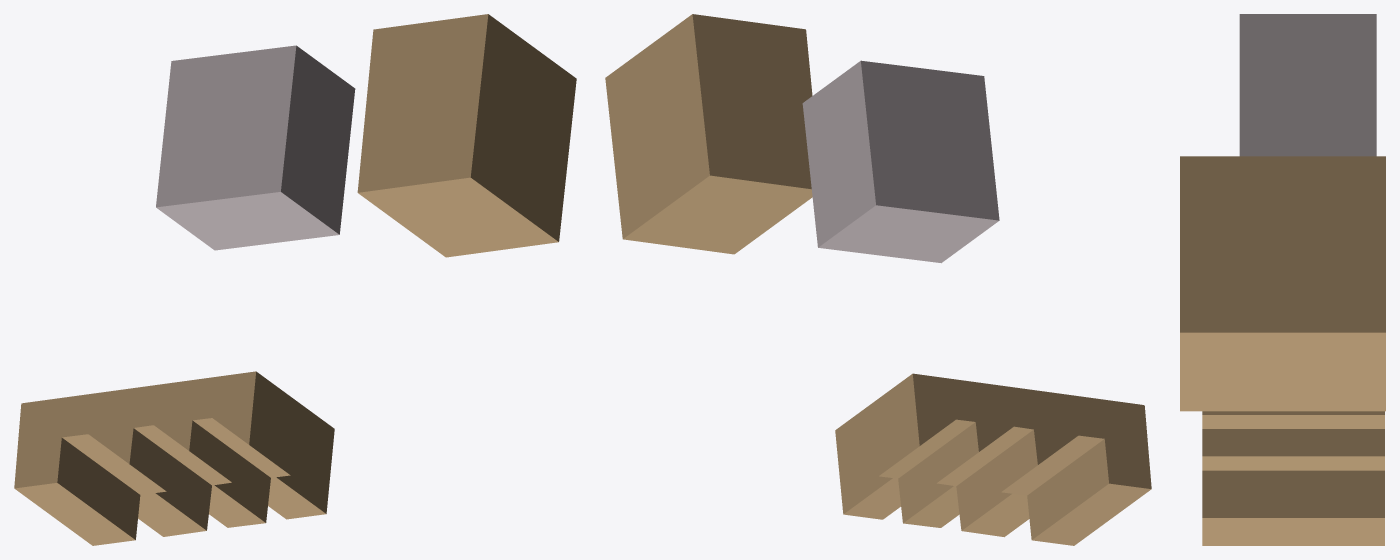
3 renders of one model, left to right at view 1: azimuth 30°, elevation 25°; view 2: azimuth 150°, elevation 25°; view 3: azimuth 270°, elevation 25°, orthographic. The views are drawn at different scales.
Parts seen in each view (by area): view 1: 0_0_3_1_2_1_0_1; view 2: 0_0_3_1_2_1_0_1; view 3: 0_0_3_1_2_1_0_1.
Boxes of the visible parts, box(x1,y1,x2,y2) form: 0_0_3_1_2_1_0_1: box(14, 14, 576, 545); 0_0_3_1_2_1_0_1: box(605, 14, 1151, 545); 0_0_3_1_2_1_0_1: box(1180, 14, 1385, 545).
Bounding box in the file's own units: 83.71 × 70.45 × 27.
